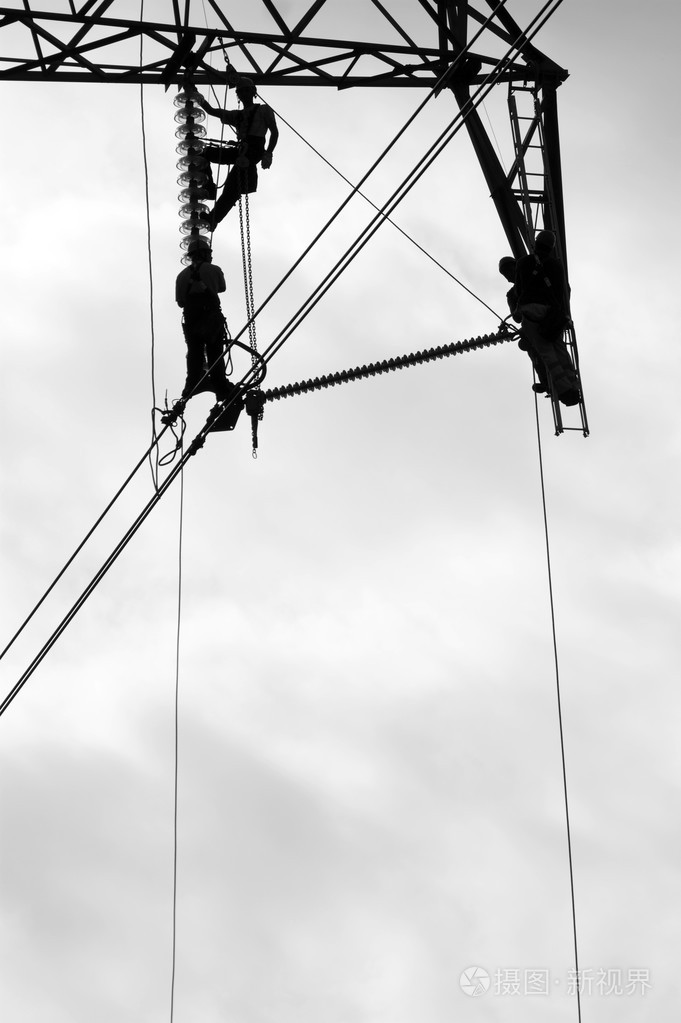insulator: (170, 85, 215, 261)
